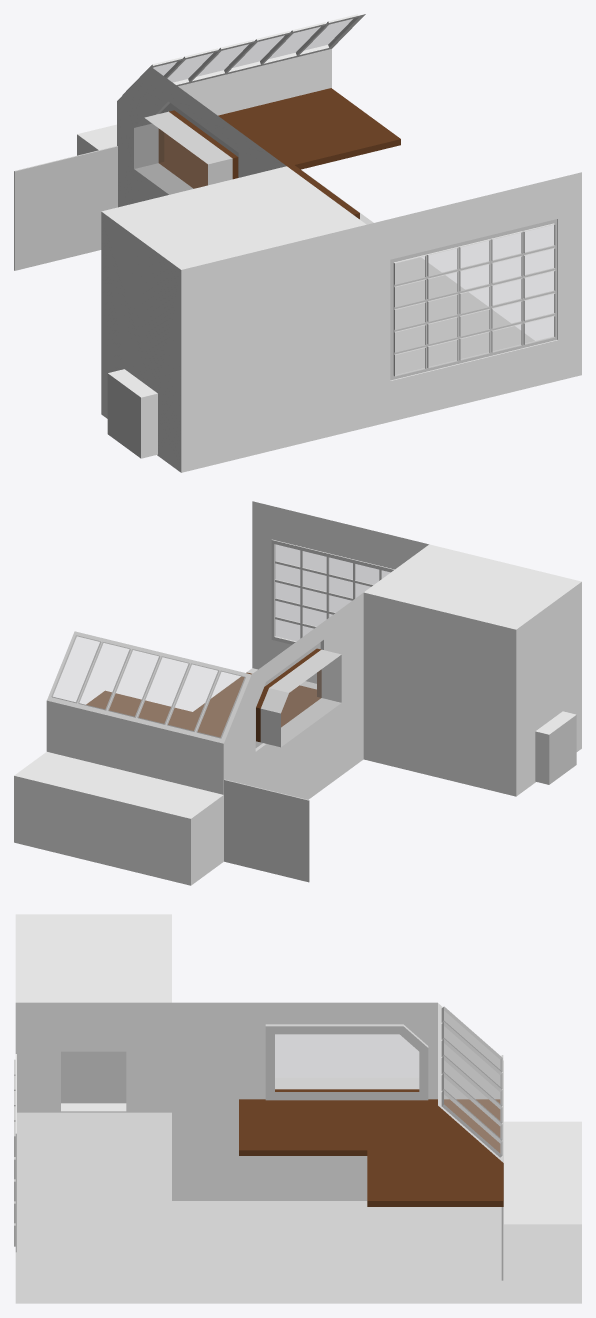
File: Loft House 1.fbx
3 renders of one model, top to bottom at view 1: azimuth 30°, elevation 25°; view 2: azimuth 150°, elevation 25°; view 3: azimuth 270°, elevation 25°, orthographic. The views are drawn at different scales.
Parts seen in each view (by area): view 1: Cube, Cube.001, Cube.002, Plane, Cube.003; view 2: Cube, Cube.003, Plane, Cube.001, Cube.002; view 3: Cube, Cube.002, Cube.003.
Part boxes in pixels (box(x1,y1,x2,y2)): Cube: box(77, 49, 581, 472); Cube.001: box(394, 224, 555, 376); Cube.002: box(164, 88, 400, 219); Plane: box(14, 146, 117, 270); Cube.003: box(123, 14, 365, 94); Cube: box(14, 501, 581, 885); Cube.003: box(47, 631, 251, 743); Plane: box(224, 779, 309, 882); Cube.001: box(275, 544, 390, 641); Cube.002: box(86, 672, 316, 737); Cube: box(15, 914, 581, 1303); Cube.002: box(239, 1099, 503, 1206); Cube.003: box(438, 1003, 503, 1162).
Size of the model in its own units: 2089 by 971 by 2518.
